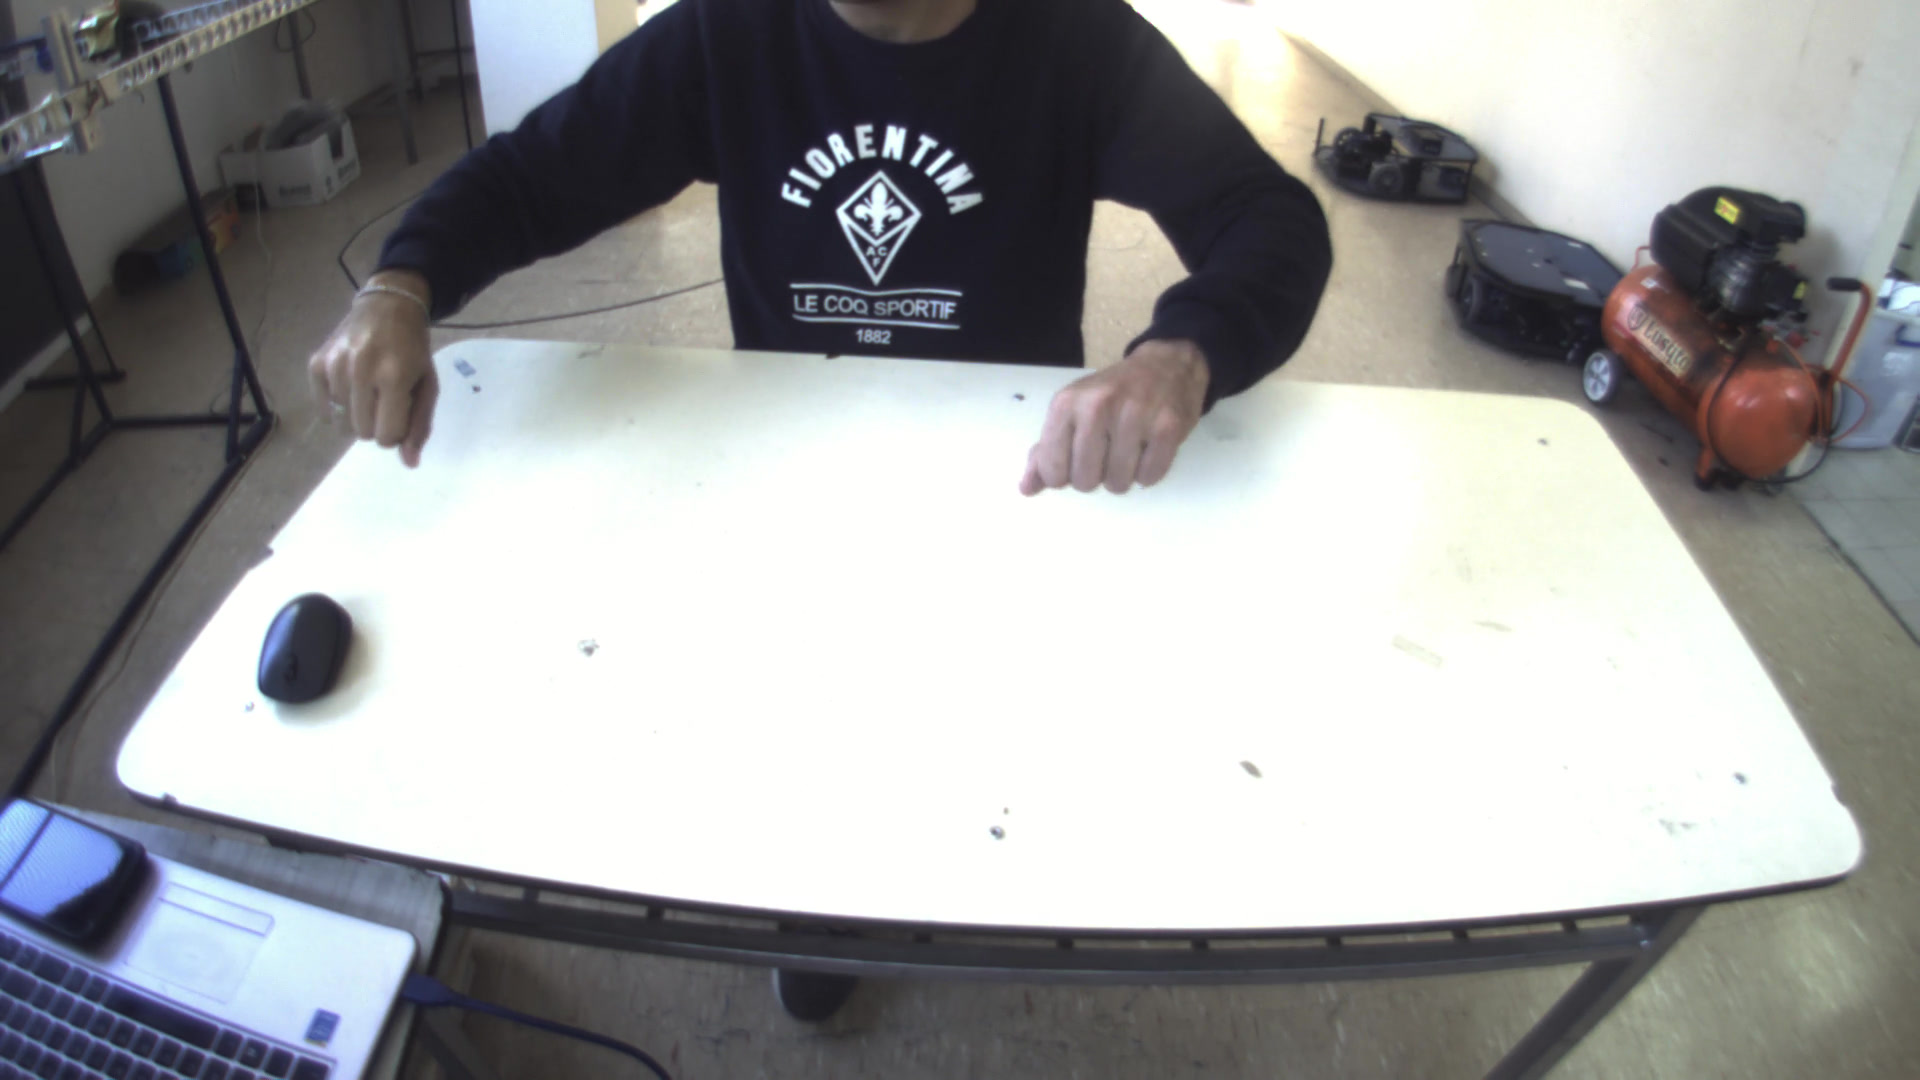hand: (1018, 324, 1218, 498), (303, 265, 442, 462)
